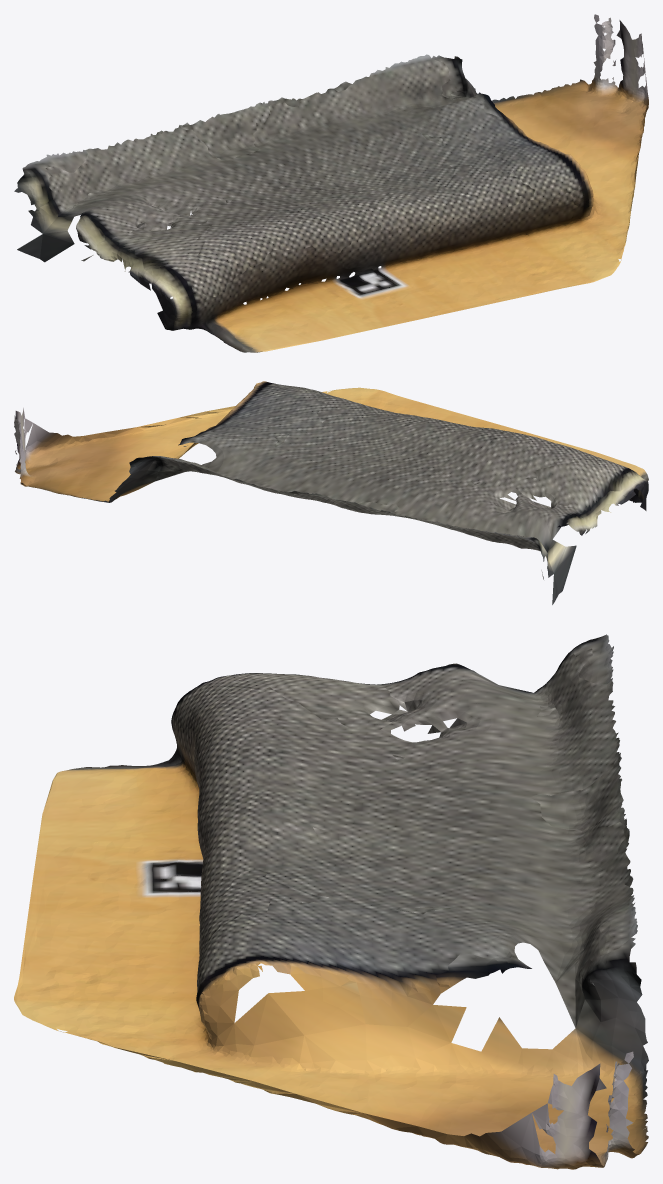
The model's file is hori_soft1.obj.
3 renders of one model, top to bottom at view 1: azimuth 30°, elevation 25°; view 2: azimuth 150°, elevation 25°; view 3: azimuth 270°, elevation 25°, orthographic. The views are drawn at different scales.
Parts seen in each view (by area): view 1: Scaniverse_2024_12_15_184824.001; view 2: Scaniverse_2024_12_15_184824.001; view 3: Scaniverse_2024_12_15_184824.001.
Boxes of the visible parts, x1=… form: Scaniverse_2024_12_15_184824.001: x1=14, y1=14, x2=648, y2=352; Scaniverse_2024_12_15_184824.001: x1=14, y1=381, x2=648, y2=604; Scaniverse_2024_12_15_184824.001: x1=14, y1=634, x2=648, y2=1169.
Size of the model in its own units: 0.5948 by 0.0732 by 0.354.
Materials: 1 (1 with a texture image).
